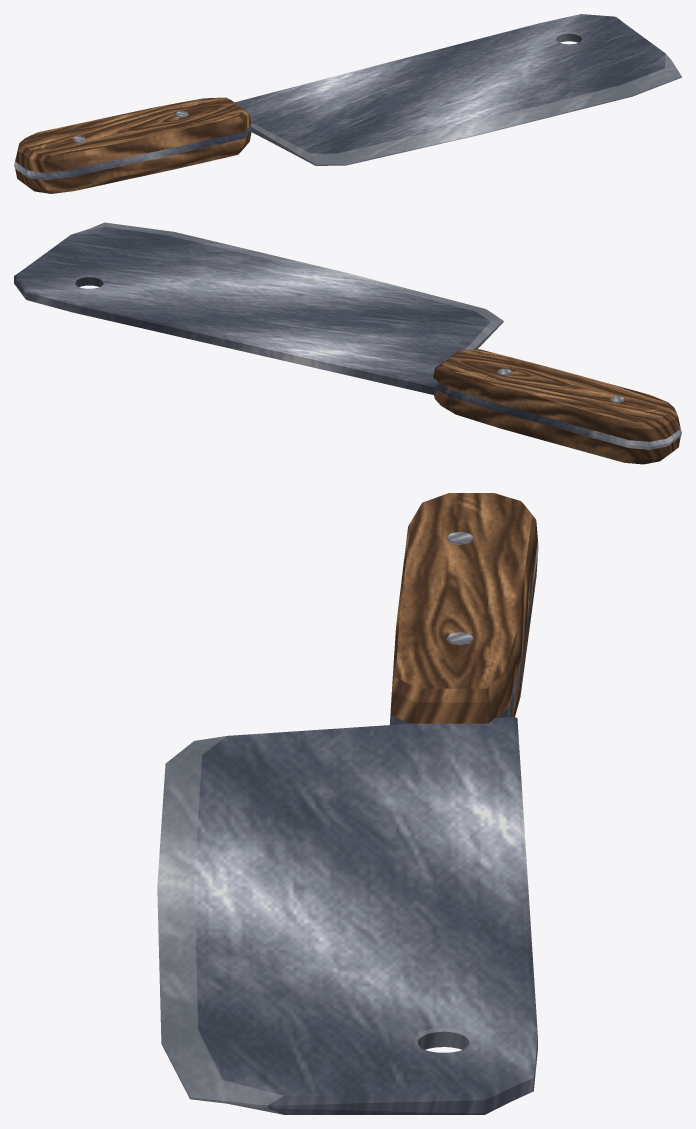
The model's file is Cutelo-de-Acougueiro.glb.
The picture shows the model from 3 angles, top to bottom: view 1: azimuth 30°, elevation 25°; view 2: azimuth 150°, elevation 25°; view 3: azimuth 270°, elevation 25°; orthographic projection. The views are drawn at different scales.
Visible parts, largest first — view 1: Face da lâmina, Cabo de madeira, Fio de corte, Espiga aparente; view 2: Face da lâmina, Cabo de madeira, Contorno da lâmina, Fio de corte, Espiga aparente; view 3: Face da lâmina, Cabo de madeira, Fio de corte, Contorno da lâmina, Furo para pendurar.
Part boxes in pixels (x1,y1,x2,y2): Face da lâmina: (235, 14, 665, 153); Cabo de madeira: (15, 97, 251, 193); Fio de corte: (250, 54, 681, 165); Espiga aparente: (14, 125, 250, 180); Face da lâmina: (16, 226, 490, 384); Cabo de madeira: (433, 349, 680, 464); Contorno da lâmina: (14, 273, 438, 394); Fio de corte: (74, 222, 503, 350); Espiga aparente: (438, 383, 681, 449); Face da lâmina: (194, 717, 533, 1095); Cabo de madeira: (390, 493, 537, 723); Fio de corte: (157, 736, 283, 1114); Contorno da lâmina: (267, 717, 537, 1114); Furo para pendurar: (414, 1027, 473, 1049).
Bounding box in the file's own units: 0.3386 × 0.021 × 0.0932.
Materials: 3 (3 with a texture image).
